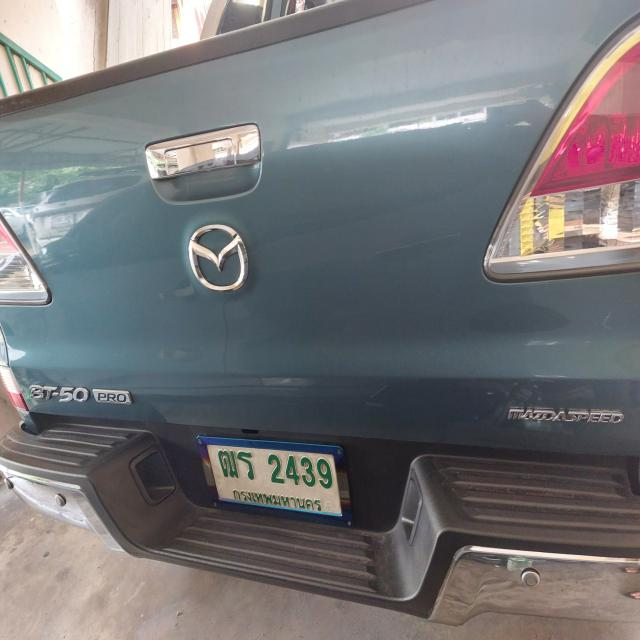license_plate: (193, 434, 354, 530)
